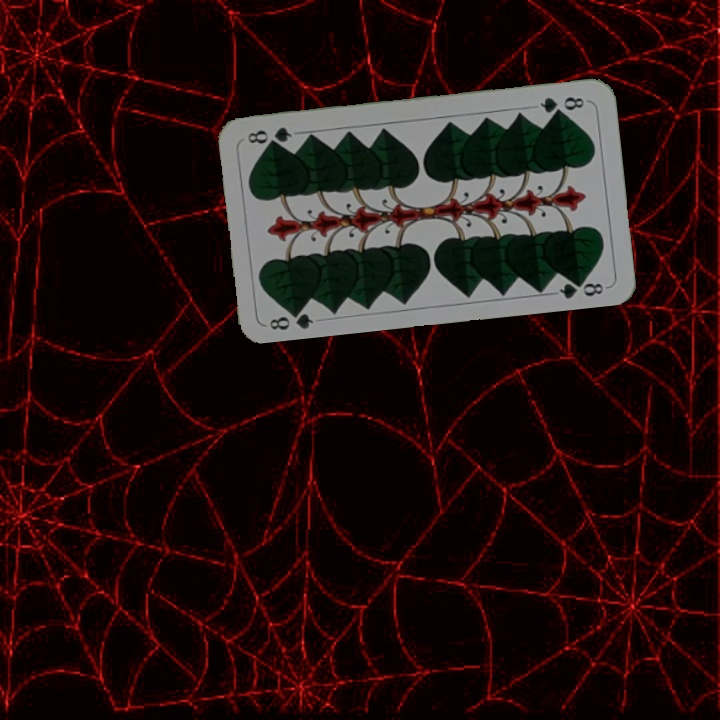G8: (265, 303, 316, 333), (536, 92, 587, 117)
